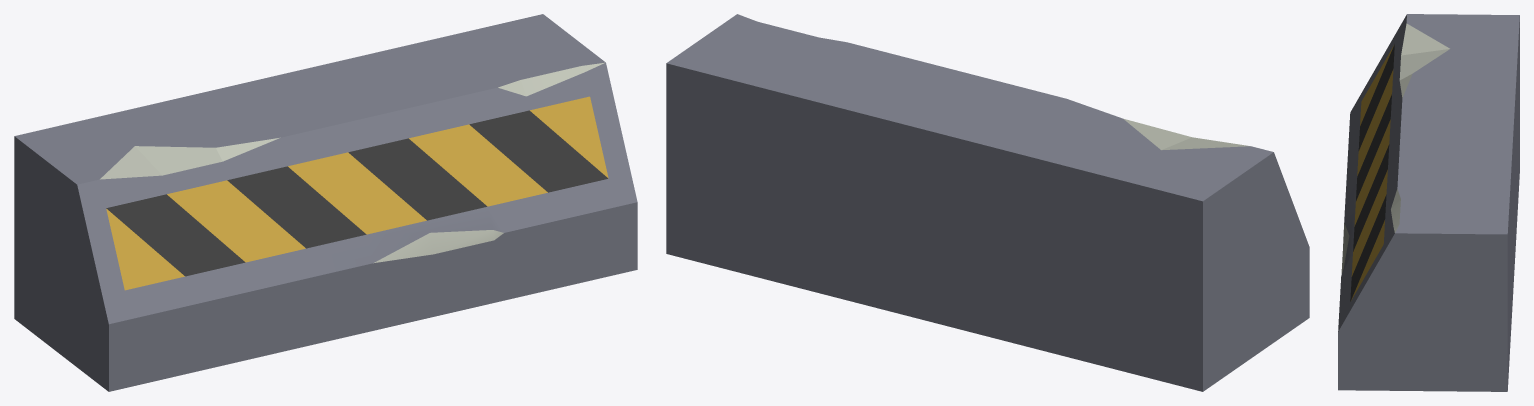
Rendered from BarrierSingle.gltf.
The picture shows the model from 3 angles, left to right: view 1: azimuth 30°, elevation 25°; view 2: azimuth 150°, elevation 25°; view 3: azimuth 270°, elevation 25°; orthographic projection. The views are drawn at different scales.
Parts seen in each view (by area): view 1: Barrier_Single; view 2: Barrier_Single; view 3: Barrier_Single.
Boxes of the visible parts, x1,y1,x2,y2 form: Barrier_Single: (14,14,637,391); Barrier_Single: (666,14,1309,391); Barrier_Single: (1338,14,1519,391).
Size of the model in its own units: 1.89 by 0.6281 by 0.6569.
